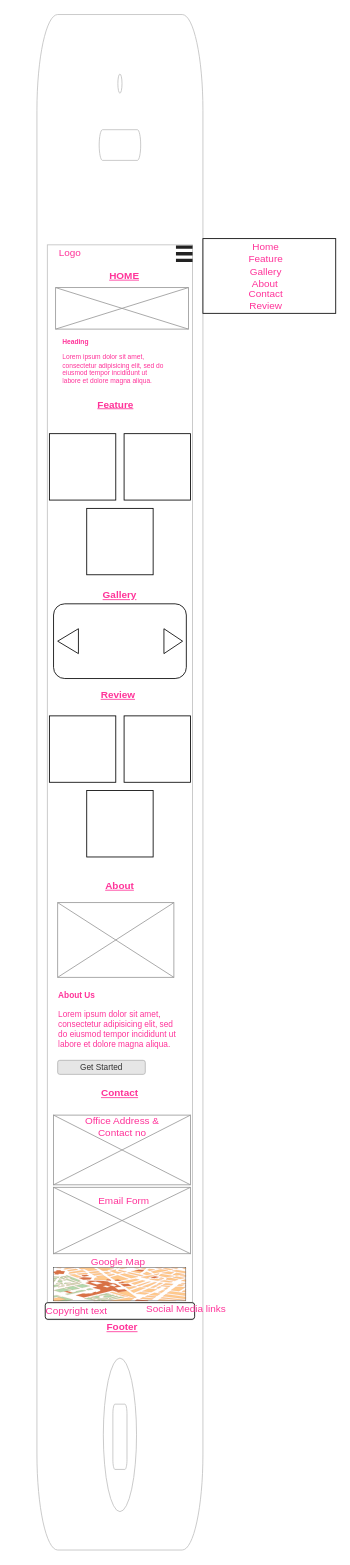
Image size: 350x1565. Some labels were removed from this diagram. Each missing label, with the box of its shape:
Flight search form: (55, 287, 188, 329)
Image: (57, 902, 174, 977)
